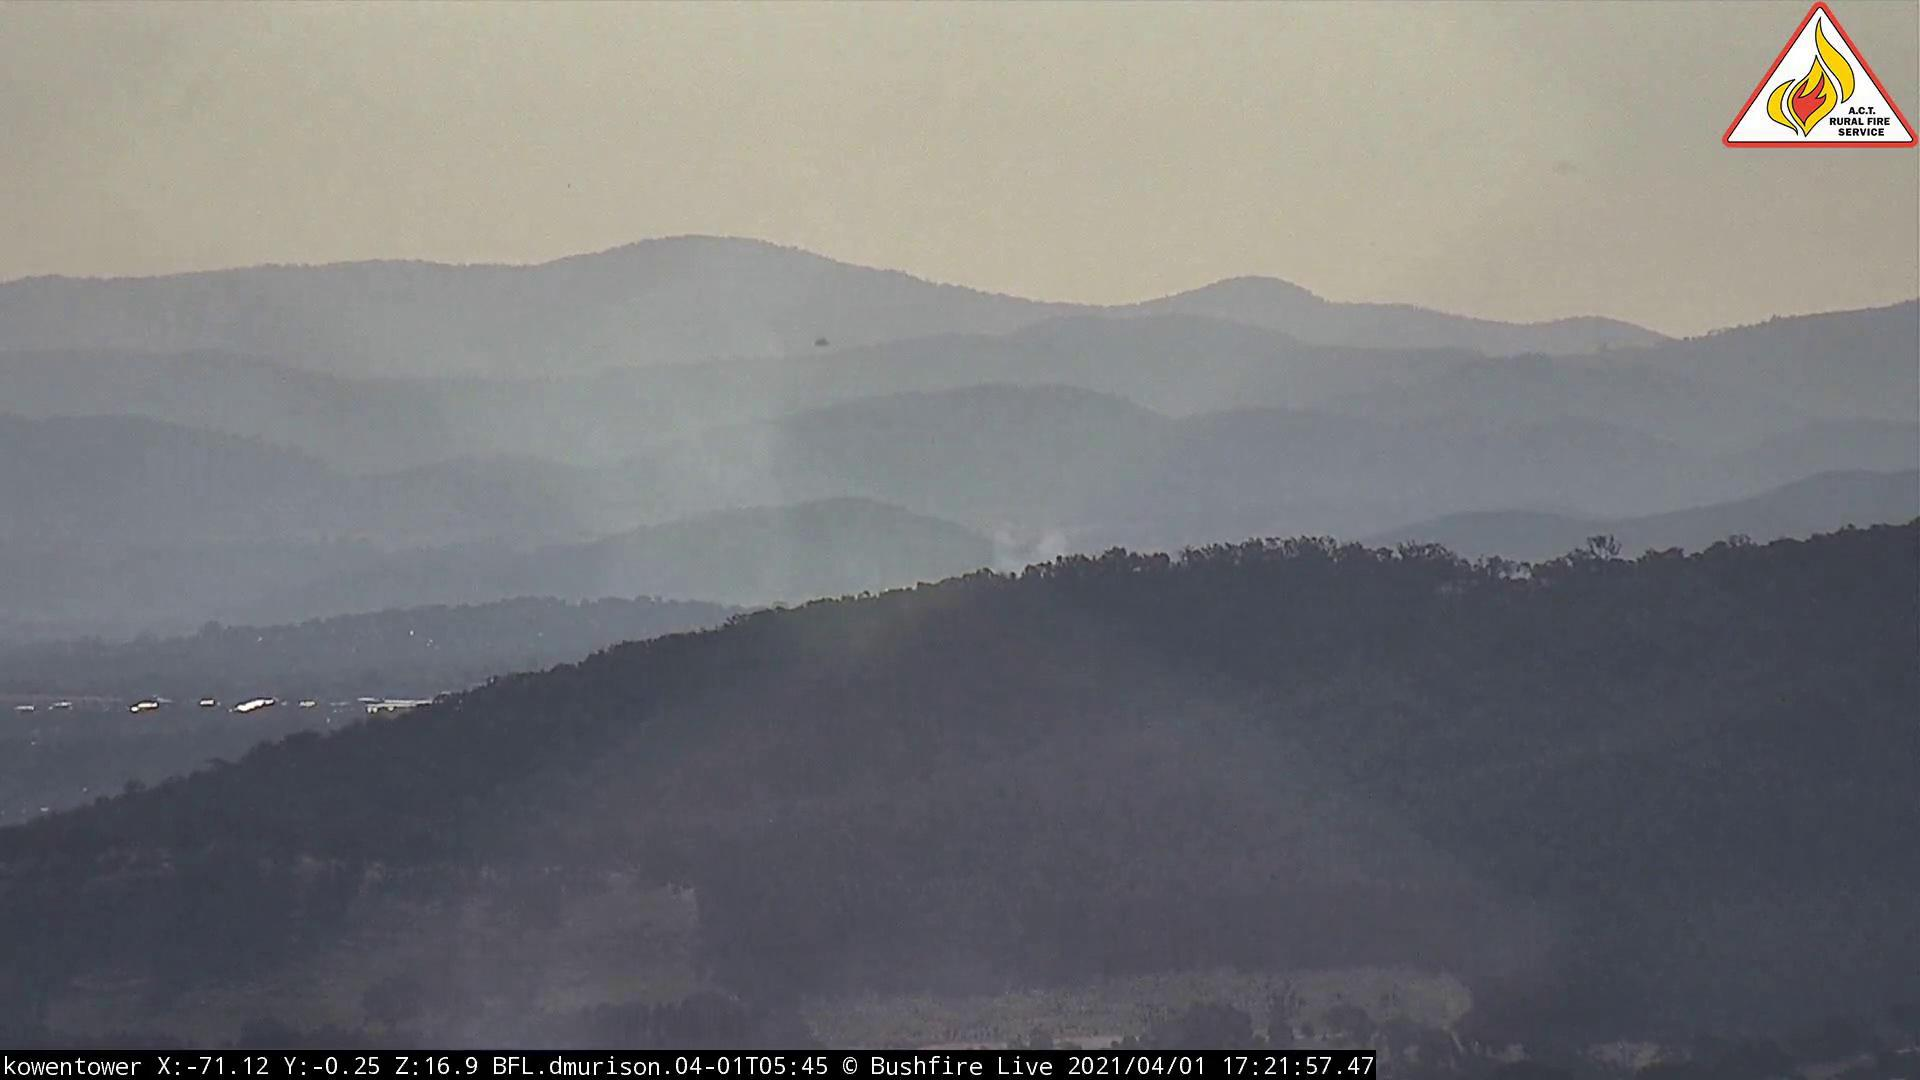Smoke: (560, 281, 1087, 633)
